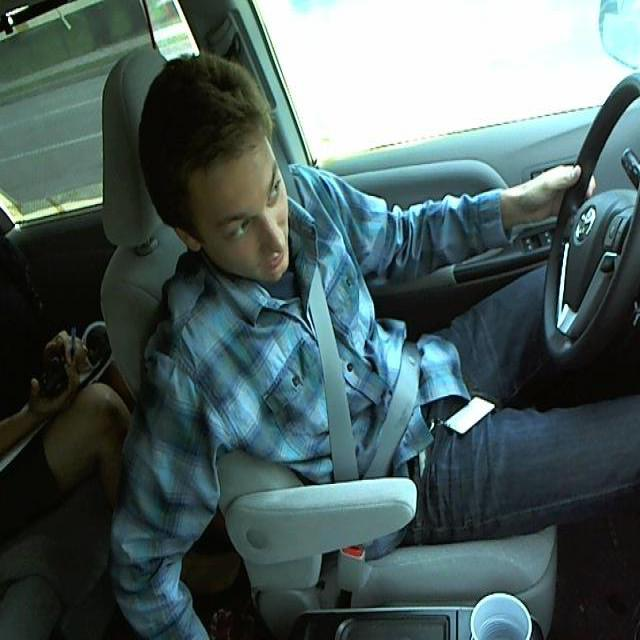seatbelt: (308, 287, 423, 484)
